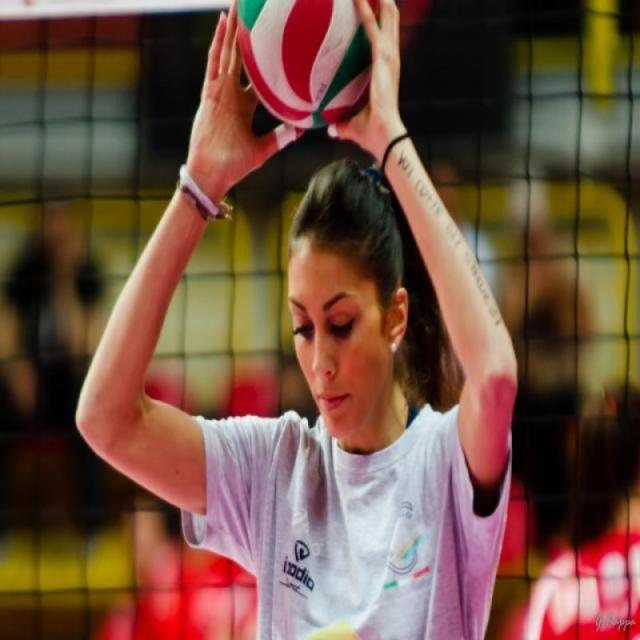volleyball: (234, 0, 386, 129)
